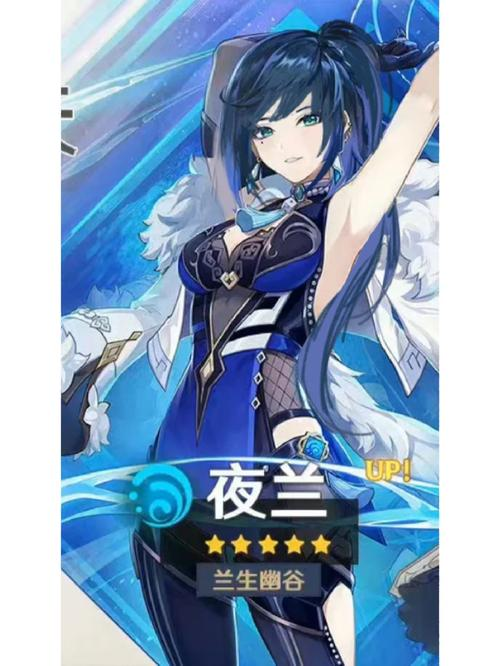夜兰: (121, 15, 439, 666)
